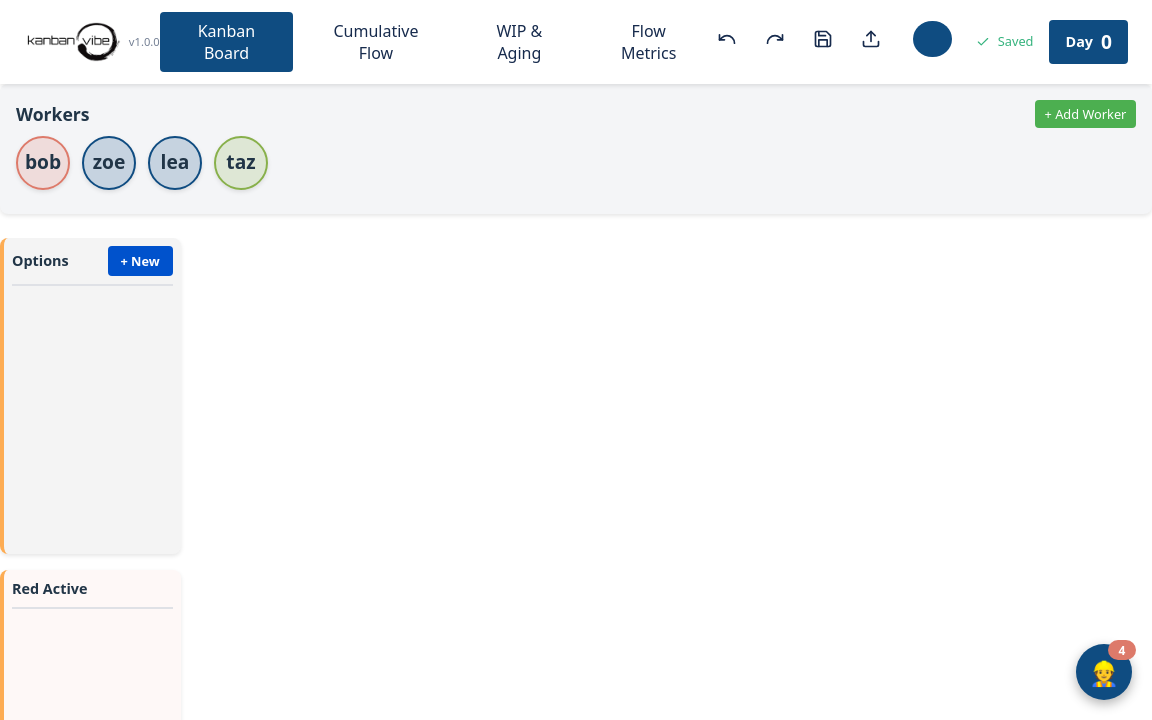
it: Context Actions › shows Import Context option when Import dropdown is clicked
The width and height of the screenshot is (1152, 720).
Note: click the import options button to open the dropdown
Step 1. Click the button named "Import options" → (871, 42), box [853,22,889,62]
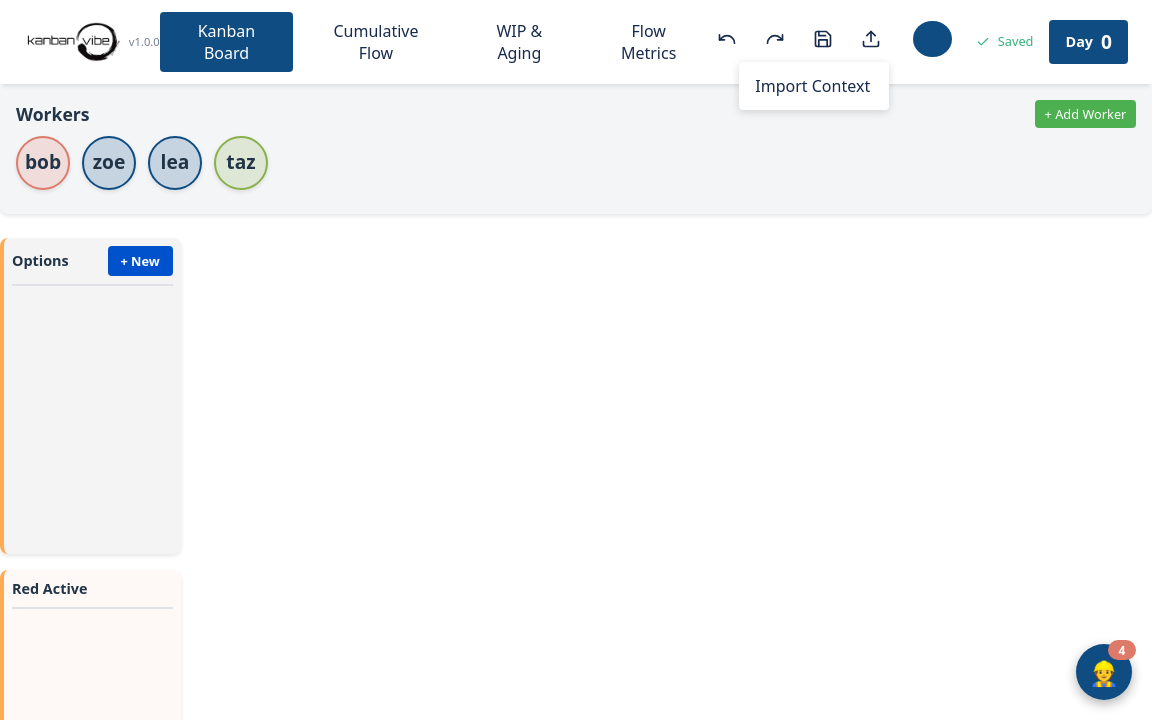
Check: the file field "Import Context" is shown, box [755,76,870,98]
